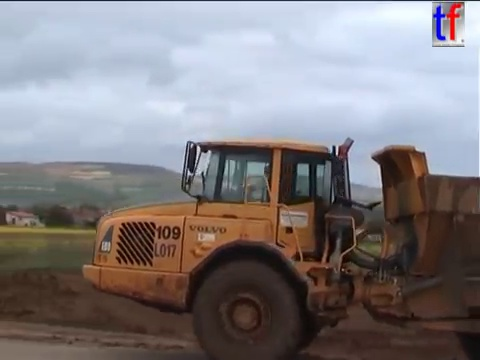truck: (78, 134, 480, 360)
